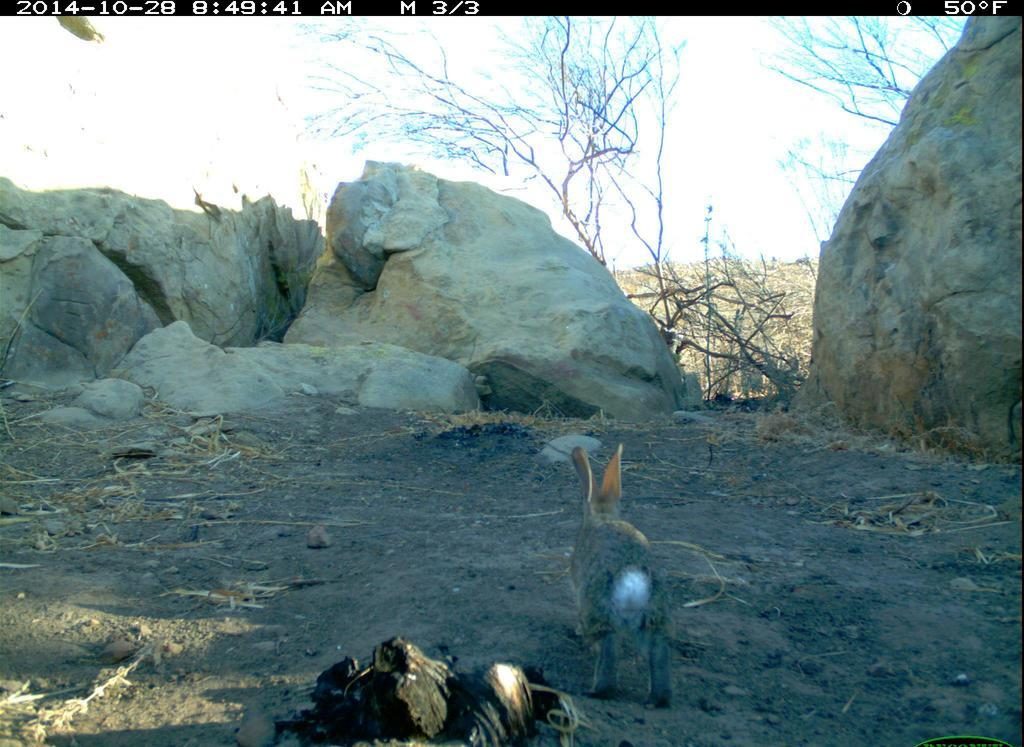rabbit: (553, 438, 685, 717)
